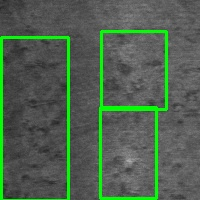rolled-in_scale: (1, 37, 68, 200), (100, 107, 156, 198), (101, 31, 166, 109)
